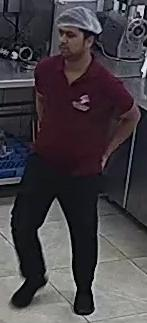no_apron: (34, 23, 119, 179)
